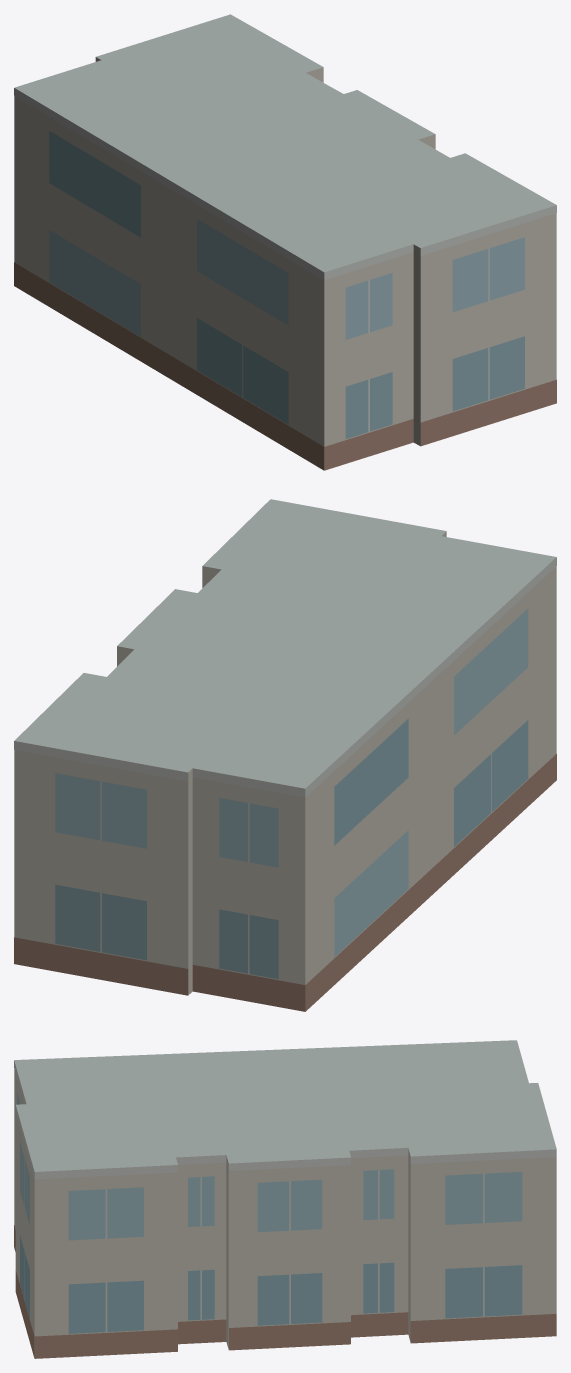
The model's file is survey-upis-32702331.glb.
3 renders of one model, top to bottom at view 1: azimuth 30°, elevation 25°; view 2: azimuth 150°, elevation 25°; view 3: azimuth 270°, elevation 25°, orthographic. The views are drawn at different scales.
Visible parts, largest first — view 1: survey-upis-32702331.tmp; view 2: survey-upis-32702331.tmp; view 3: survey-upis-32702331.tmp.
Part boxes in pixels (<box>): survey-upis-32702331.tmp: <box>14,14,556,470</box>; survey-upis-32702331.tmp: <box>14,499,556,1011</box>; survey-upis-32702331.tmp: <box>14,1040,556,1358</box>.
Bounding box in the file's own units: 9.25 × 6.1 × 16.07.
